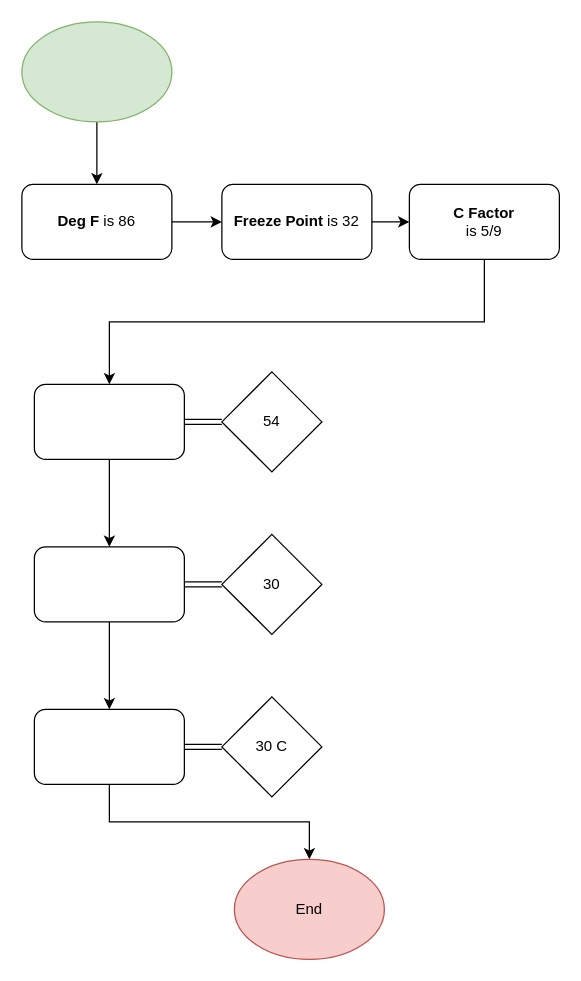
The diagram is 581 pixels wide and 981 high, and some of its shapes have lost their labels. The shapes that lost their labels are listed below. From the top down, each one's centre as x and y in pixels, then its label:
At point (96, 71): "Start".
At point (108, 421): "Subtract Freeze Point from Deg F".
At point (108, 584): "Multiply Result by C Factor".
At point (108, 746): "Result is Deg C".
